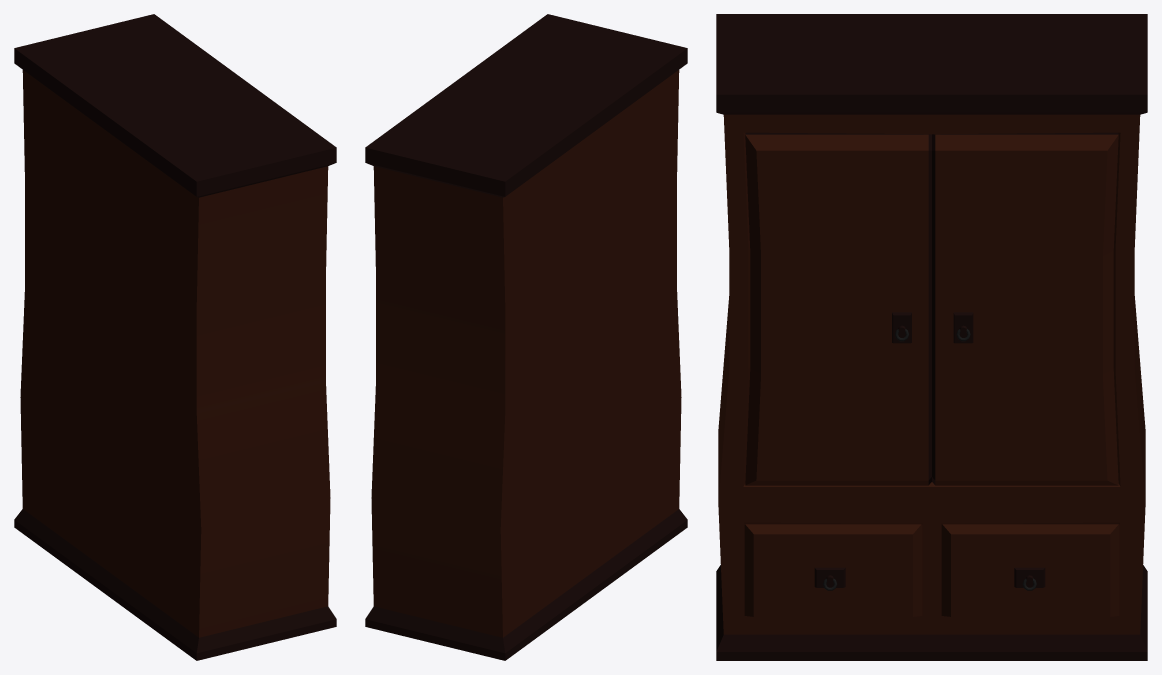
The model's file is Armario.fbx.
3 renders of one model, left to right at view 1: azimuth 30°, elevation 25°; view 2: azimuth 150°, elevation 25°; view 3: azimuth 270°, elevation 25°, orthographic. The views are drawn at different scales.
Visible parts, largest first — view 1: Box001; view 2: Box001; view 3: Box001.
Part boxes in pixels (x1=…): Box001: x1=14, y1=14, x2=336, y2=660; Box001: x1=365, y1=14, x2=687, y2=660; Box001: x1=716, y1=14, x2=1147, y2=660.
Bounding box in the file's own units: 23.49 × 70.87 × 48.91.
